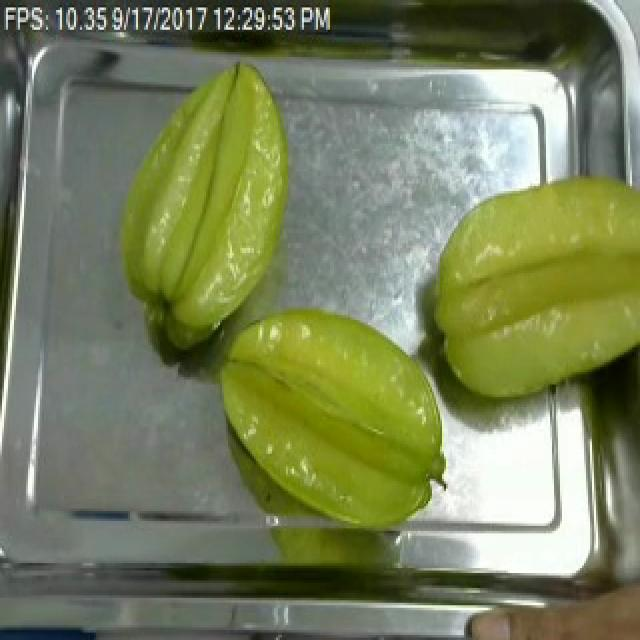fruit: (204, 300, 456, 541), (106, 49, 300, 360), (420, 166, 640, 404), (454, 563, 640, 640)
